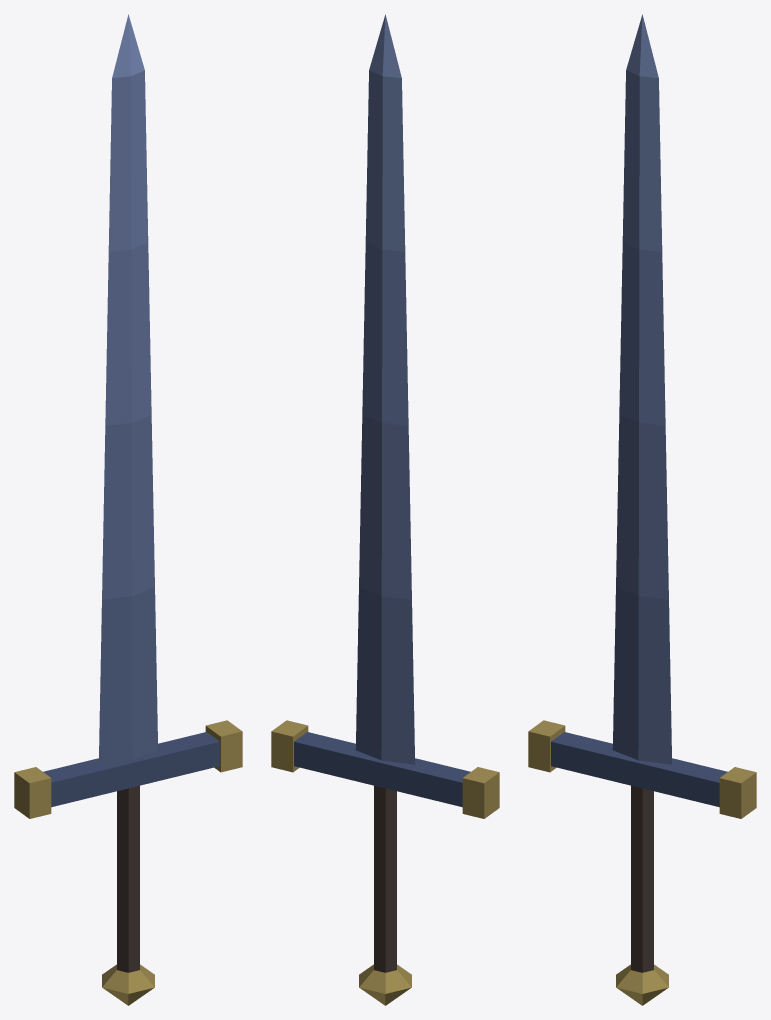
Rendered from sword_great_mithril_s1032.glb.
The picture shows the model from 3 angles, left to right: view 1: azimuth 30°, elevation 25°; view 2: azimuth 150°, elevation 25°; view 3: azimuth 330°, elevation 25°; orthographic projection.
Visible parts, largest first — view 1: sword_great_mithril_s1032; view 2: sword_great_mithril_s1032; view 3: sword_great_mithril_s1032.
Boxes of the visible parts, <box> form: sword_great_mithril_s1032: <box>14,14,242,1005</box>; sword_great_mithril_s1032: <box>271,14,499,1005</box>; sword_great_mithril_s1032: <box>528,14,756,1005</box>.
Bounding box in the file's own units: 0.2741 × 1.22 × 0.0589.
1 material, 1 textured.
